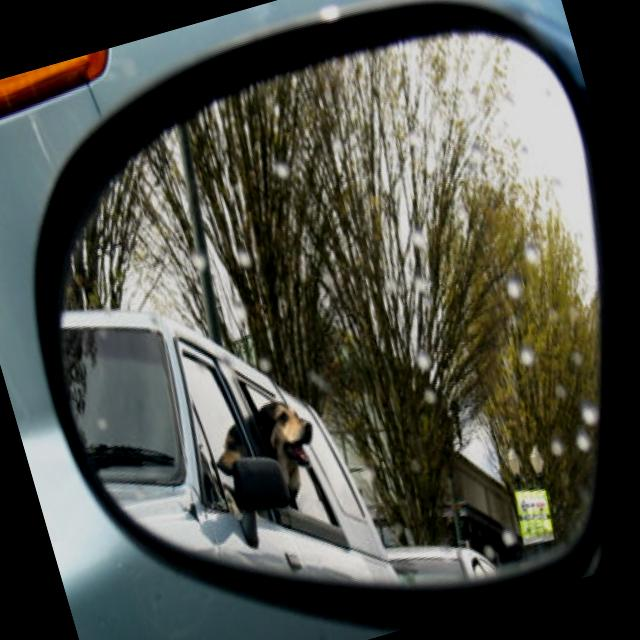Vehicle: (0, 0, 640, 640), (48, 244, 397, 640)
